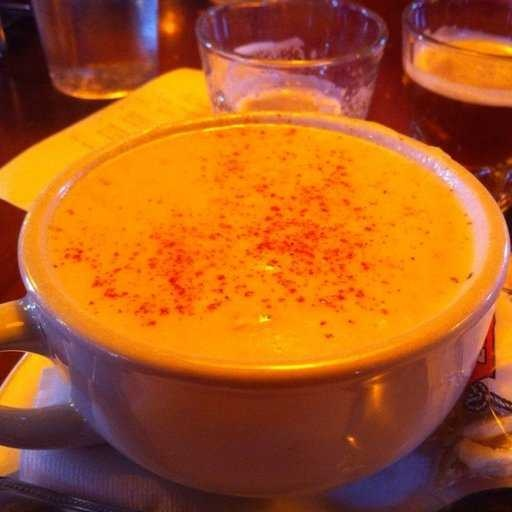soup: (27, 125, 487, 385)
